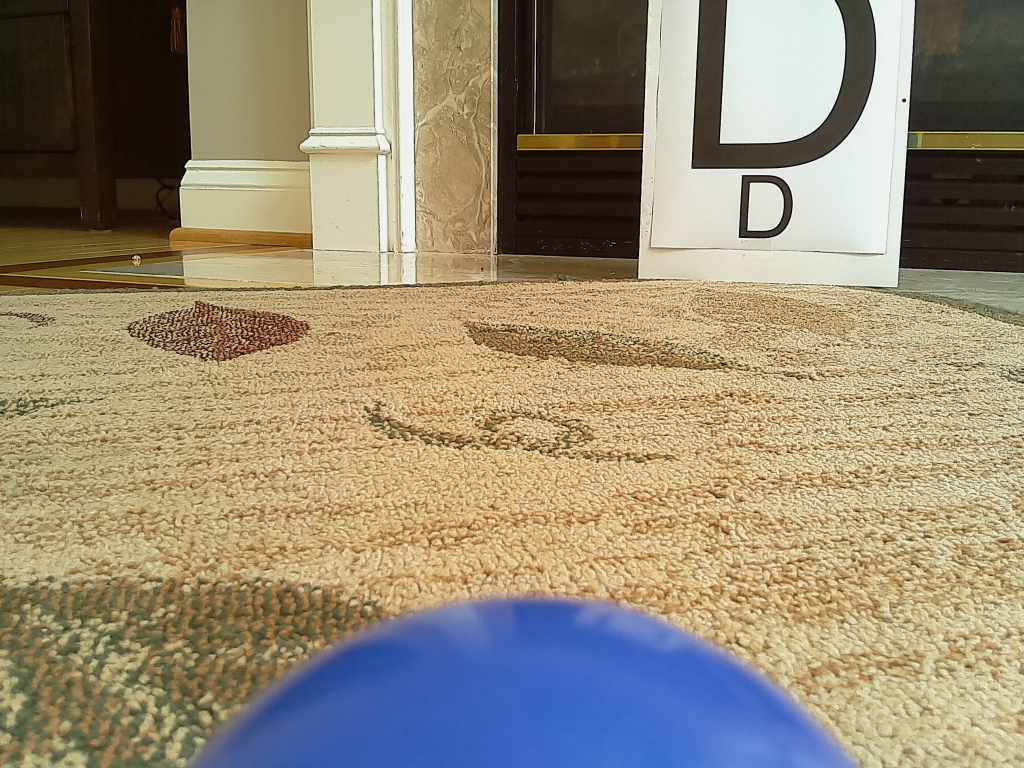letter: (698, 1, 877, 169)
